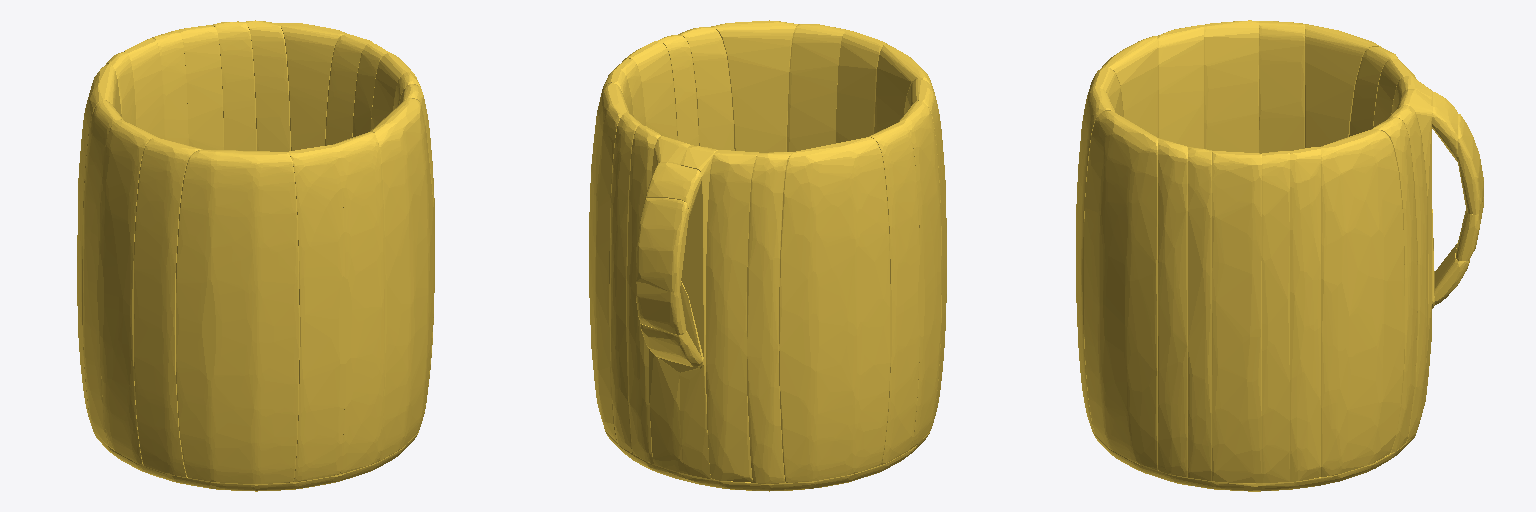
URDF robot description (1053.urdf):
<?xml version="1.0" ?>
<robot name="1053.urdf">
	<link name="baseLink">
		<inertial>
			<origin rpy="0 0 0" xyz="0 0 0"/>
				<mass value="0.1"/>
				<inertia ixx="6e-5" ixy="0" ixz="0" iyy="6e-5" iyz="0" izz="6e-5"/>
		</inertial>
		<visual>
			<origin rpy="0 0 0" xyz="0 0 0"/>
			<geometry>
				<mesh filename="26_decom_wt.obj" scale="1.01 1.01 1.03"/>
			</geometry>
			<material name="yellow">
				<color rgba="0.98 0.84 0.35 1"/>
			</material>
		</visual>
		<collision>
			<origin rpy="0 0 0" xyz="0 0 0"/>
			<geometry>
				<mesh filename="26_decom_wt.obj" scale="1.01 1.01 1.03"/>
			</geometry>
		</collision>
	</link>
</robot>

--- Facts derived from the render (not from the file) ---
3 views of the same robot in one strip: view 1: azimuth 30°, elevation 25°; view 2: azimuth 150°, elevation 25°; view 3: azimuth 270°, elevation 25° (orthographic).
Robot: 1053.urdf — 1 links, 0 joints (none); root link baseLink; default pose: every joint at zero.
Links seen in each view (by area): view 1: baseLink; view 2: baseLink; view 3: baseLink.
Link boxes in pixels (bbox=[...]): baseLink: bbox=[77, 20, 434, 491]; baseLink: bbox=[589, 20, 946, 491]; baseLink: bbox=[1076, 20, 1483, 491].
Size in the robot's own frame: 0.1109 by 0.1264 by 0.1158 metres.
Meshes: 1 distinct files referenced, 1 mesh visuals loaded (1 OBJ).